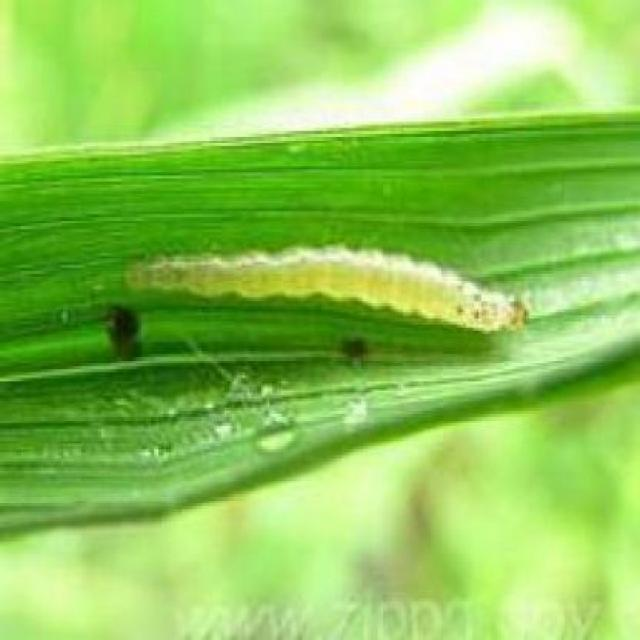leaf-folder: (103, 191, 542, 383)
